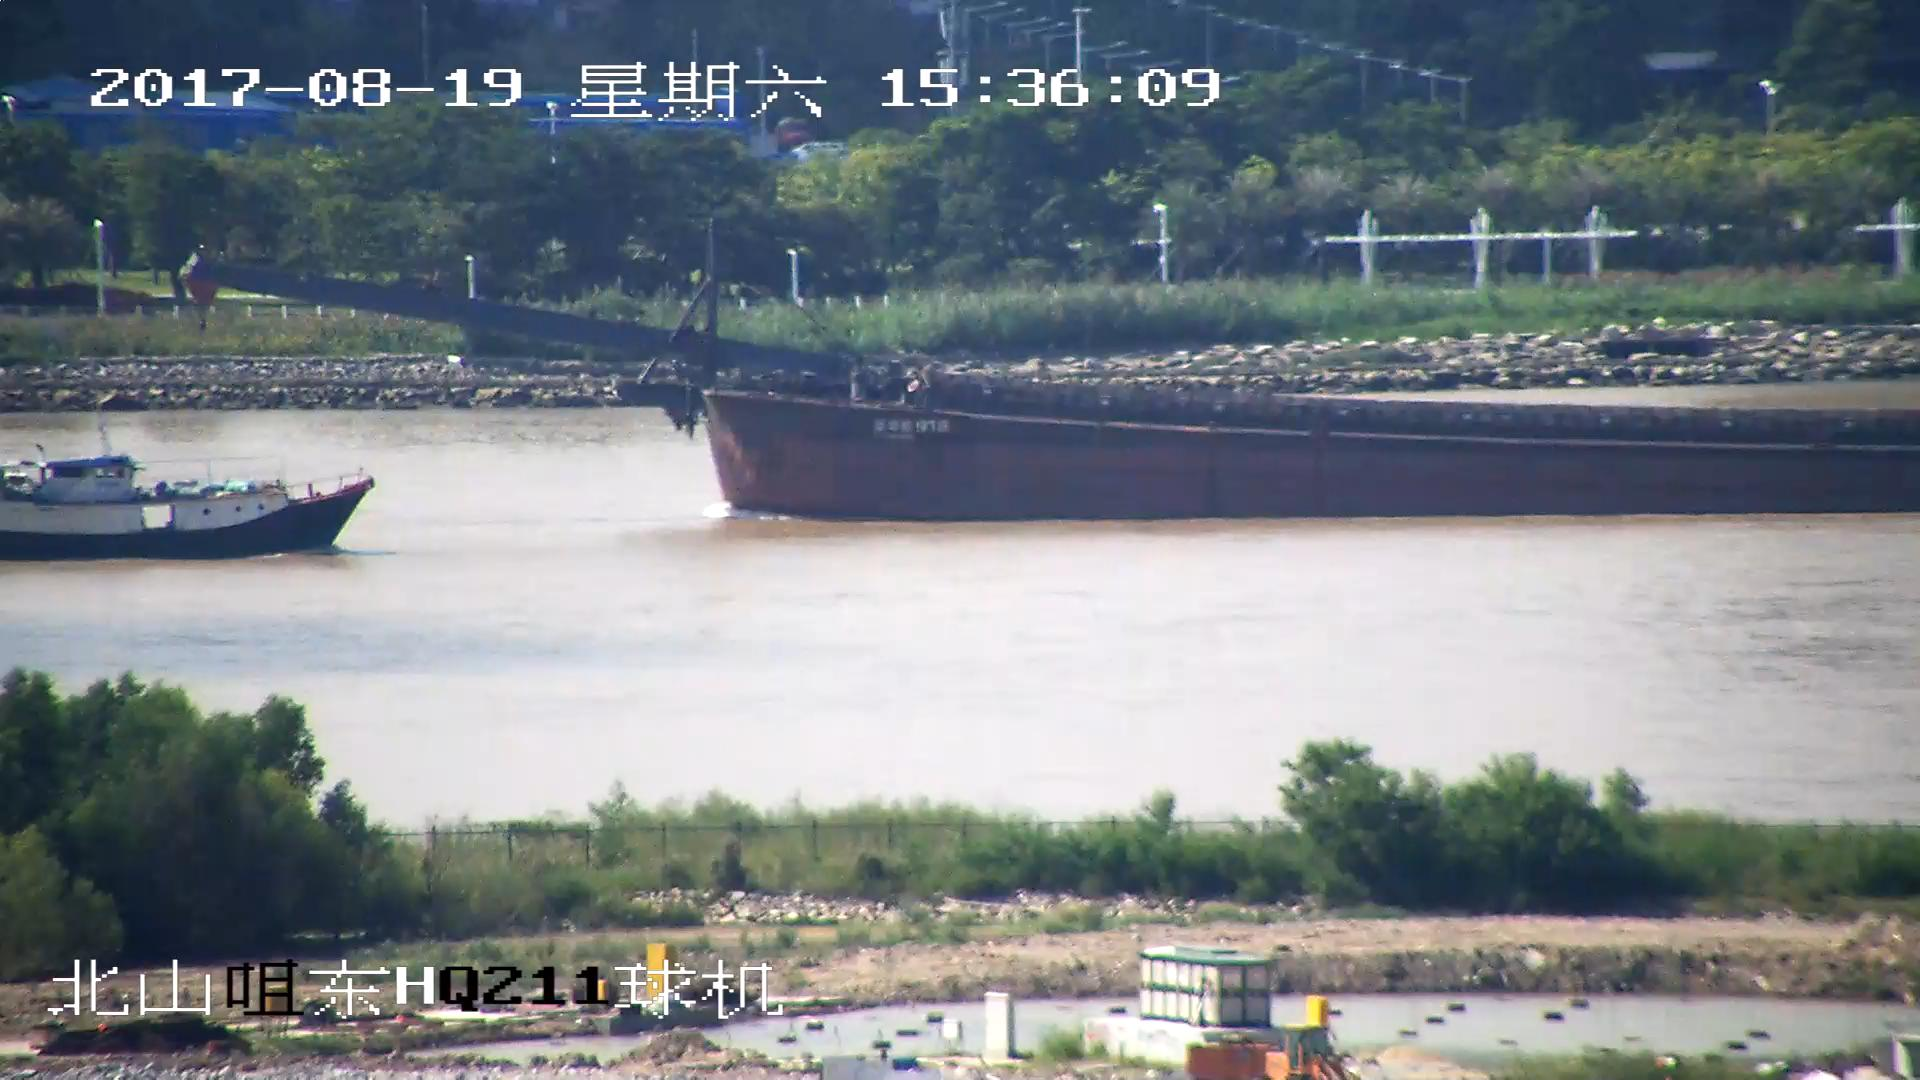bulk cargo carrier: (183, 259, 1920, 522)
fishing boat: (1, 459, 371, 560)
